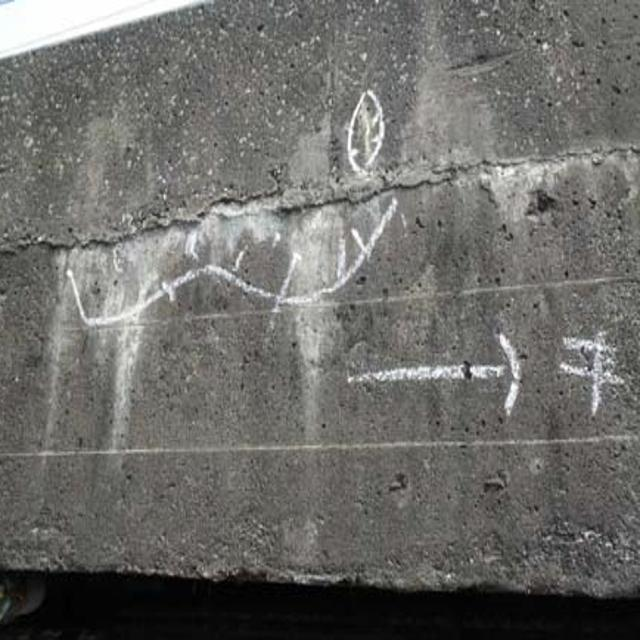freelime: (57, 177, 390, 307)
